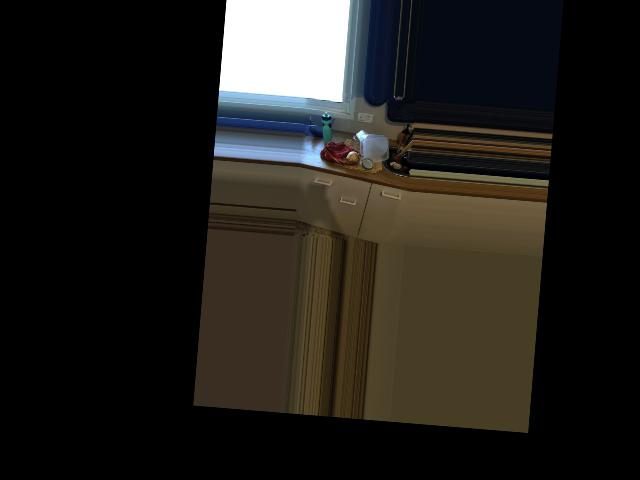onion: (341, 149, 359, 168)
